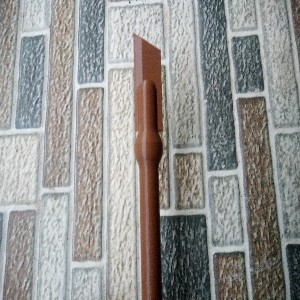cutter: (132, 32, 164, 300)
